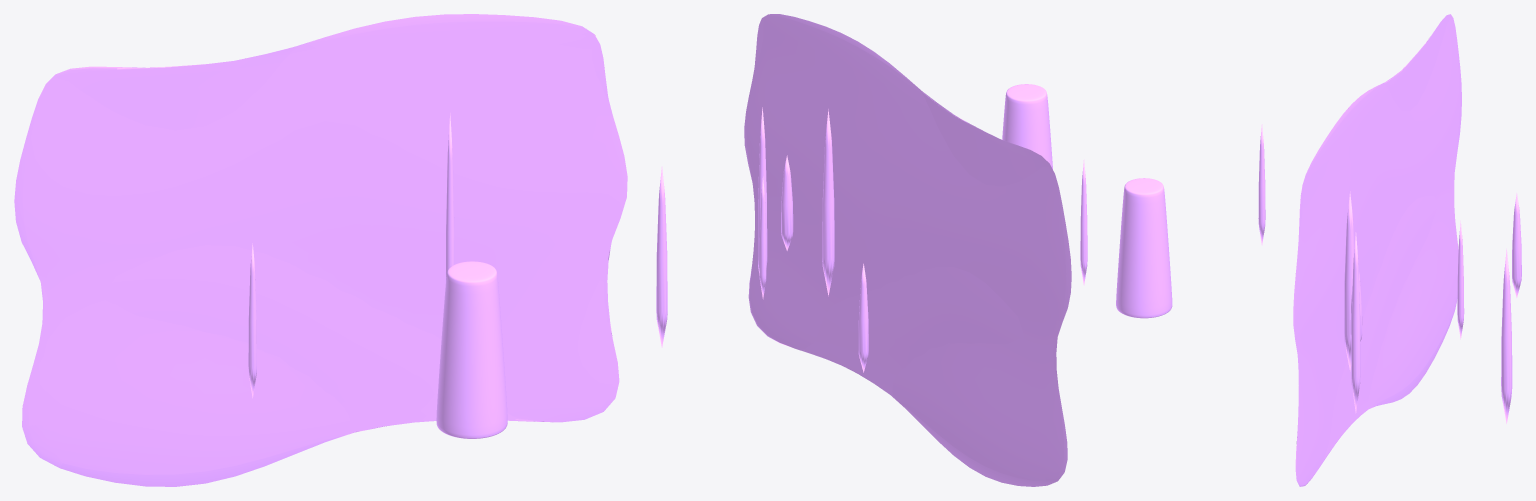
File: coral-fan-purple-01.glb
The picture shows the model from 3 angles, left to right: view 1: azimuth 30°, elevation 25°; view 2: azimuth 150°, elevation 25°; view 3: azimuth 270°, elevation 25°; orthographic projection. The views are drawn at different scales.
Parts seen in each view (by area): view 1: coral-fan-purple-01.blade, coral-fan-purple-01.stem, coral-fan-purple-01.branch0, coral-fan-purple-01.branch5; view 2: coral-fan-purple-01.blade, coral-fan-purple-01.stem, coral-fan-purple-01.branch4, coral-fan-purple-01.branch2, coral-fan-purple-01.branch1, coral-fan-purple-01.branch7, coral-fan-purple-01.branch6, coral-fan-purple-01.branch5, coral-fan-purple-01.branch3; view 3: coral-fan-purple-01.blade, coral-fan-purple-01.stem, coral-fan-purple-01.branch2, coral-fan-purple-01.branch6, coral-fan-purple-01.branch4, coral-fan-purple-01.branch7, coral-fan-purple-01.branch5, coral-fan-purple-01.branch3.
Part boxes in pixels (x1,y1,x2,y2): coral-fan-purple-01.blade: (14, 14, 627, 486); coral-fan-purple-01.stem: (436, 261, 507, 438); coral-fan-purple-01.branch0: (445, 113, 454, 283); coral-fan-purple-01.branch5: (248, 243, 256, 398); coral-fan-purple-01.blade: (744, 14, 1071, 486); coral-fan-purple-01.stem: (1002, 84, 1052, 169); coral-fan-purple-01.branch4: (822, 109, 834, 296); coral-fan-purple-01.branch2: (656, 166, 667, 347); coral-fan-purple-01.branch1: (781, 155, 793, 250); coral-fan-purple-01.branch7: (858, 263, 868, 372); coral-fan-purple-01.branch6: (758, 107, 767, 275); coral-fan-purple-01.branch5: (1080, 159, 1087, 285); coral-fan-purple-01.branch3: (759, 176, 766, 299); coral-fan-purple-01.blade: (1293, 14, 1461, 486); coral-fan-purple-01.stem: (1116, 178, 1172, 318); coral-fan-purple-01.branch2: (1501, 248, 1512, 423); coral-fan-purple-01.branch6: (1351, 232, 1360, 413); coral-fan-purple-01.branch4: (1344, 191, 1354, 371); coral-fan-purple-01.branch7: (1512, 193, 1521, 297); coral-fan-purple-01.branch5: (1258, 124, 1265, 245); coral-fan-purple-01.branch3: (1457, 220, 1464, 339).
Size of the model in its own units: 1.54 by 1.32 by 1.36.
